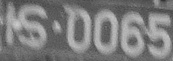0: (91, 6, 119, 56), (65, 4, 91, 56)
5: (146, 9, 172, 59)
6: (120, 8, 145, 58)
I: (3, 1, 17, 51)
S: (16, 1, 48, 51)
